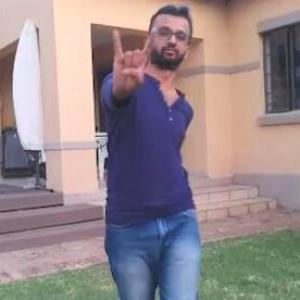takeoff-hand: (97, 18, 158, 99)
